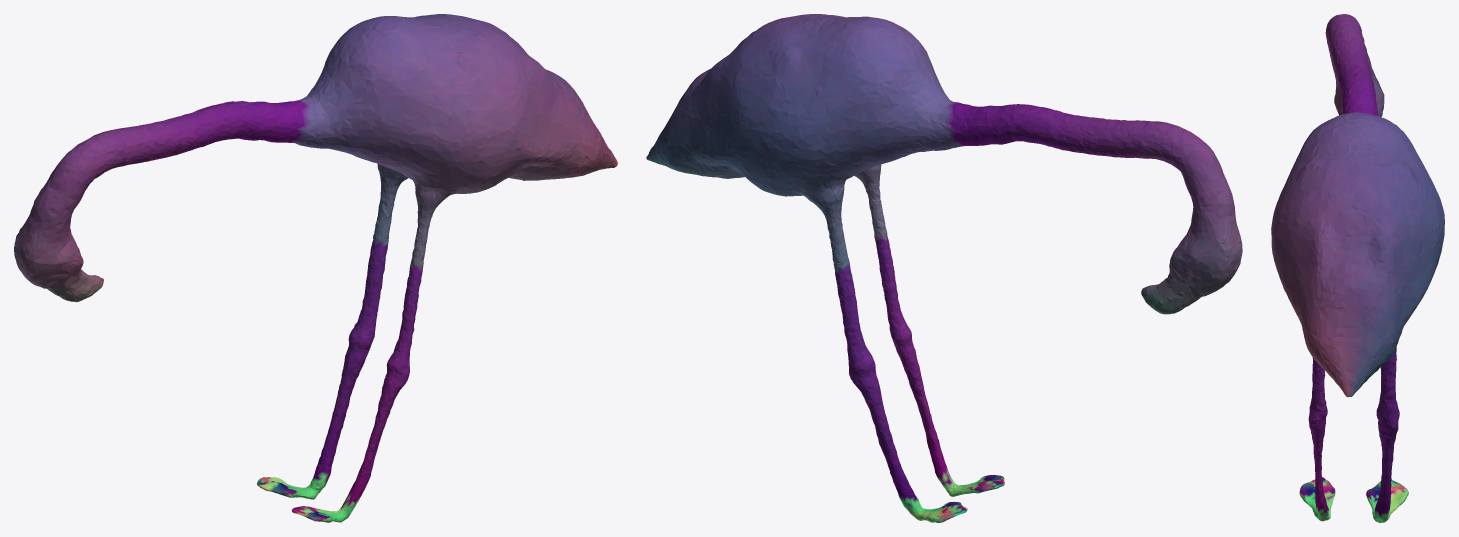
File: flamingo-4.off.obj
3 renders of one model, left to right at view 1: azimuth 30°, elevation 25°; view 2: azimuth 150°, elevation 25°; view 3: azimuth 270°, elevation 25°, orthographic. The views are drawn at different scales.
Size of the model in its own units: 1.57 by 1.19 by 0.4298.
